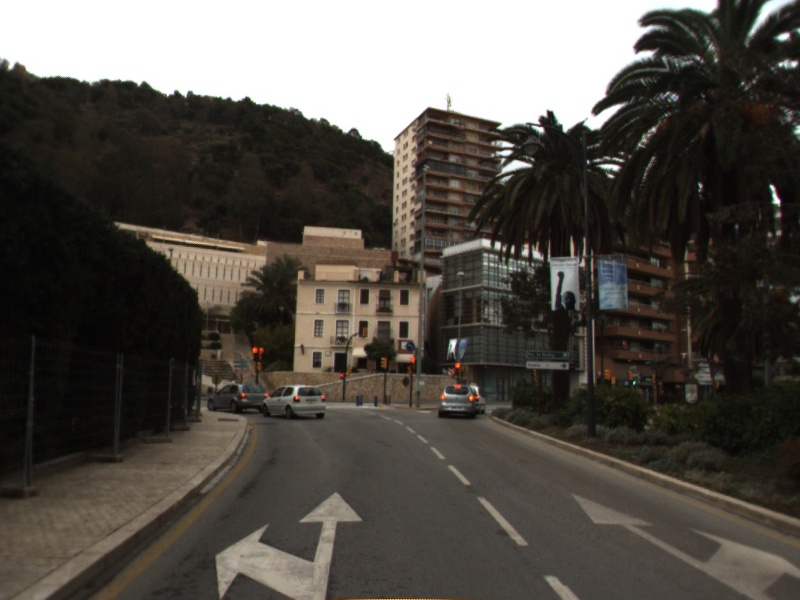STRAIGHT_LEFT: (214, 490, 364, 600)
STRAIGHT_RIGHT: (570, 491, 800, 600)
